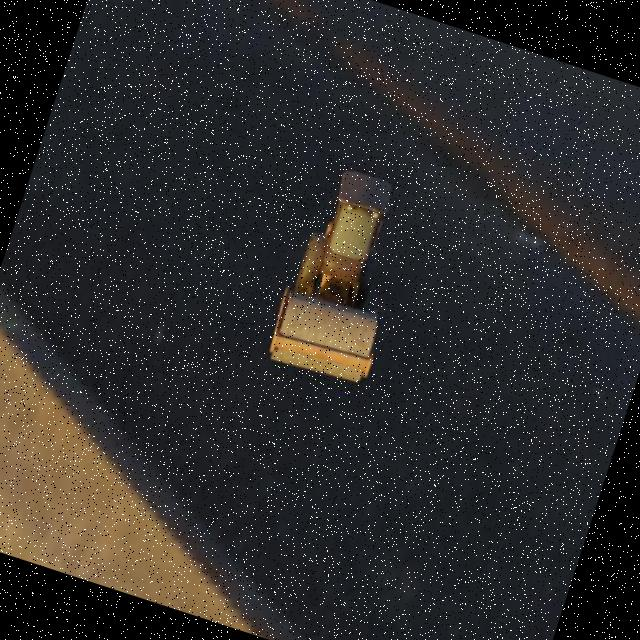Roller: (264, 161, 426, 389)
